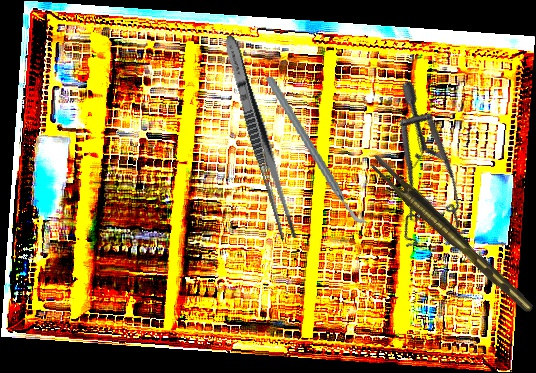Chopper: (264, 65, 370, 237)
Dressing Forceps: (218, 32, 301, 243)
Speculum: (324, 77, 508, 270)
Tissue Forceps: (366, 148, 535, 322)
